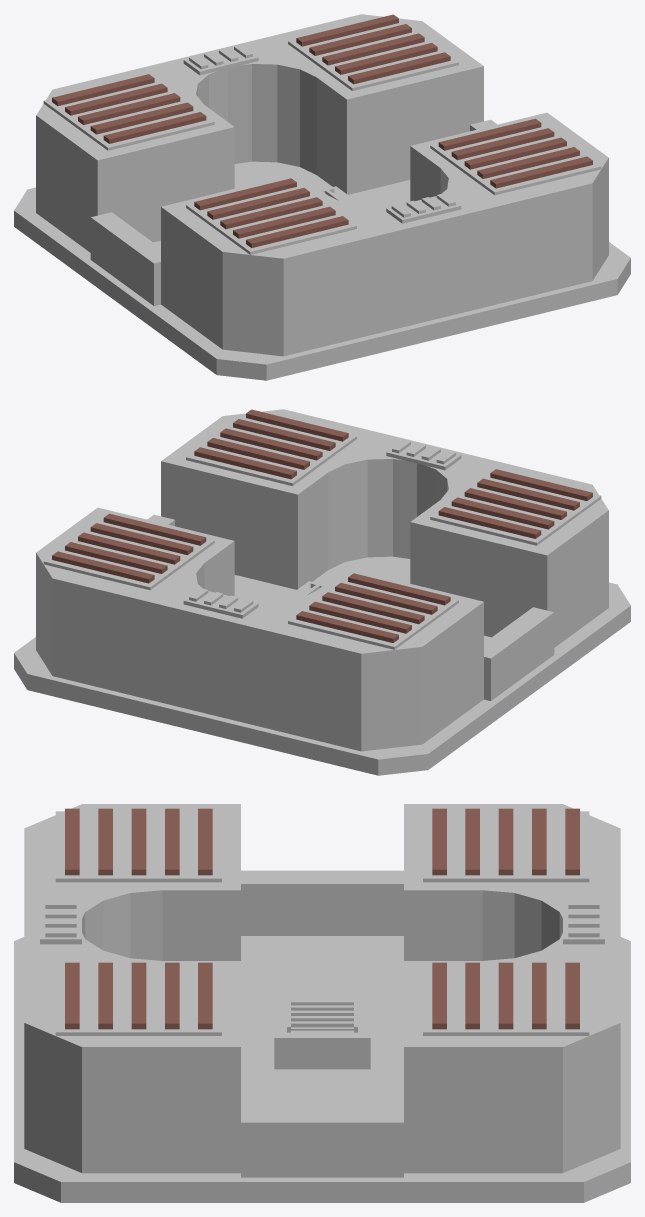
File: geothermal.obj
3 renders of one model, top to bottom at view 1: azimuth 30°, elevation 25°; view 2: azimuth 150°, elevation 25°; view 3: azimuth 270°, elevation 25°, orthographic. The views are drawn at different scales.
Visible parts, largest first — view 1: geothermal_4, geothermal_22, geothermal_0, geothermal_3, geothermal_11, geothermal_29, geothermal_23, geothermal_5, geothermal_1, geothermal_15, geothermal_25, geothermal_16 (+19 smaller); view 2: geothermal_22, geothermal_4, geothermal_0, geothermal_3, geothermal_11, geothermal_29, geothermal_5, geothermal_23, geothermal_1, geothermal_31, geothermal_9, geothermal_10 (+19 smaller); view 3: geothermal_4, geothermal_22, geothermal_0, geothermal_1, geothermal_2, geothermal_3, geothermal_5, geothermal_23, geothermal_11, geothermal_29, geothermal_40, geothermal_8 (+21 smaller).
Part boxes in pixels (bbox=[...]): geothermal_4: bbox=[161, 112, 608, 356]; geothermal_22: bbox=[36, 14, 483, 252]; geothermal_0: bbox=[14, 161, 630, 380]; geothermal_3: bbox=[90, 212, 160, 305]; geothermal_11: bbox=[430, 119, 601, 195]; geothermal_29: bbox=[288, 15, 458, 90]; geothermal_23: bbox=[43, 74, 214, 150]; geothermal_5: bbox=[186, 179, 356, 254]; geothermal_1: bbox=[153, 180, 410, 247]; geothermal_15: bbox=[451, 128, 554, 160]; geothermal_25: bbox=[90, 102, 193, 134]; geothermal_16: bbox=[438, 118, 541, 150]; geothermal_22: bbox=[36, 507, 483, 751]; geothermal_4: bbox=[161, 409, 608, 647]; geothermal_0: bbox=[14, 556, 630, 775]; geothermal_3: bbox=[484, 607, 554, 700]; geothermal_11: bbox=[186, 410, 356, 485]; geothermal_29: bbox=[43, 514, 214, 590]; geothermal_5: bbox=[430, 469, 601, 545]; geothermal_23: bbox=[288, 574, 458, 649]; geothermal_1: bbox=[234, 575, 491, 642]; geothermal_31: bbox=[90, 523, 193, 555]; geothermal_9: bbox=[451, 497, 554, 529]; geothermal_10: bbox=[438, 507, 541, 538]; geothermal_4: bbox=[24, 804, 240, 1173]; geothermal_22: bbox=[404, 804, 620, 1173]; geothermal_0: bbox=[14, 937, 630, 1202]; geothermal_1: bbox=[241, 936, 403, 1109]; geothermal_2: bbox=[241, 1109, 403, 1177]; geothermal_3: bbox=[241, 870, 403, 935]; geothermal_5: bbox=[55, 811, 221, 882]; geothermal_23: bbox=[423, 811, 589, 882]; geothermal_11: bbox=[55, 965, 221, 1035]; geothermal_29: bbox=[423, 965, 589, 1035]; geothermal_40: bbox=[274, 997, 370, 1069]; geothermal_8: bbox=[131, 808, 146, 875].
Bounding box in the file's own units: 5.9 × 1.65 × 5.9.
